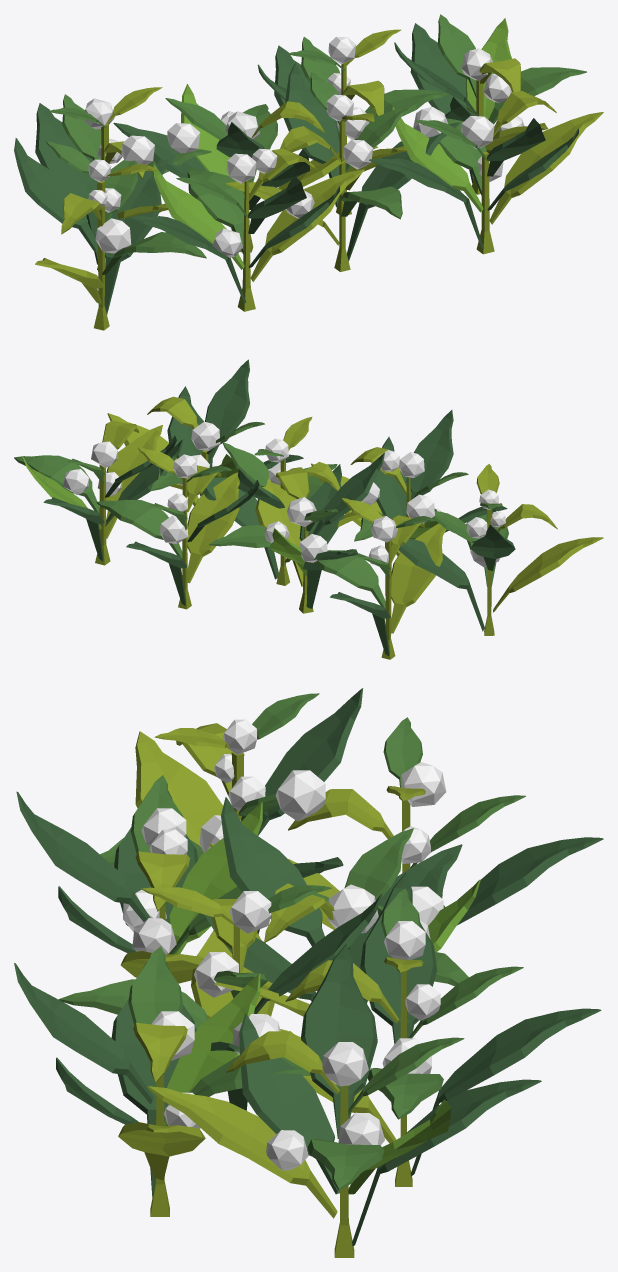
Rendered from EA_M_Env_Flower_Claster_01b.fbx.
3 views of the same model, one above another, from view 1: azimuth 30°, elevation 25°; view 2: azimuth 150°, elevation 25°; view 3: azimuth 270°, elevation 25° (orthographic). The views are drawn at different scales.
Parts seen in each view (by area): view 1: EA_M_Env_Flower_Claster_01b_LOD0; view 2: EA_M_Env_Flower_Claster_01b_LOD0; view 3: EA_M_Env_Flower_Claster_01b_LOD0.
Part boxes in pixels (x1,y1,x2,y2): EA_M_Env_Flower_Claster_01b_LOD0: (14,14,603,330); EA_M_Env_Flower_Claster_01b_LOD0: (14,359,603,659); EA_M_Env_Flower_Claster_01b_LOD0: (14,688,603,1257).
Size of what is drawn, in the model's own units: 2.23 by 0.6092 by 1.24.
